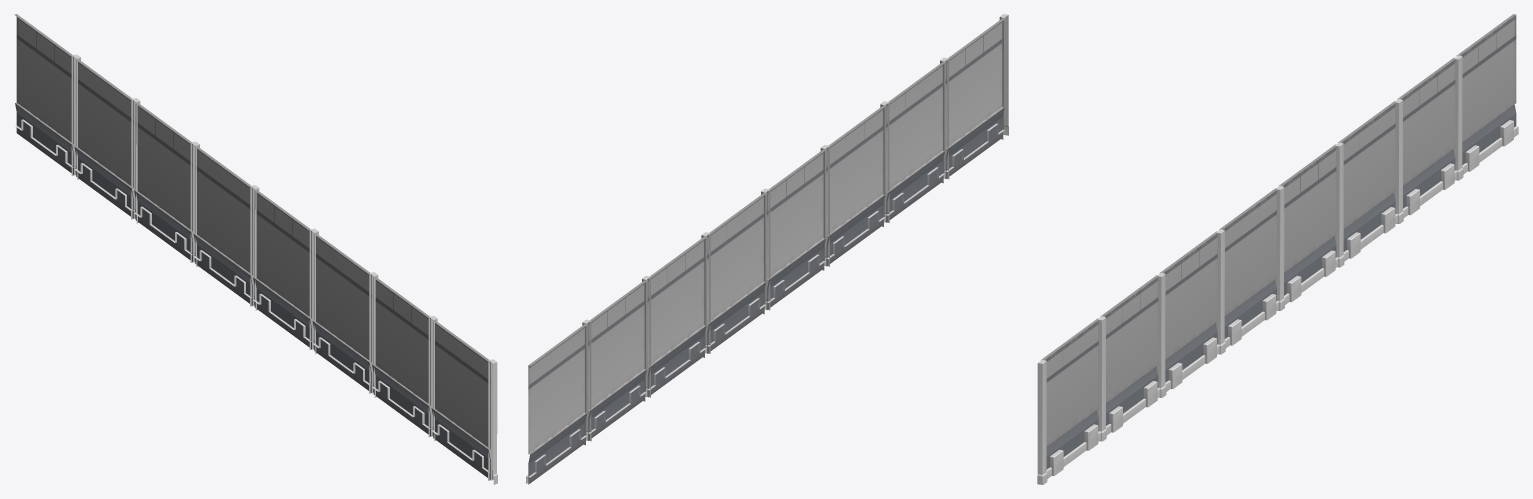
File: Pfb_JALB_WallPart2_Line__16.fbx
3 views of the same model, side by side, from view 1: azimuth 30°, elevation 25°; view 2: azimuth 150°, elevation 25°; view 3: azimuth 330°, elevation 25° (orthographic).
Parts seen in each view (by area): view 1: MAT_JLABWall; view 2: MAT_JLABWall; view 3: MAT_JLABWall.
Boxes of the visible parts, x1,y1,x2,y2 form: MAT_JLABWall: (14,14,497,484); MAT_JLABWall: (526,14,1008,484); MAT_JLABWall: (1037,14,1518,484).
Size of the model in its own units: 0.2509 by 4.04 by 28.94.
Materials: 1 (1 with a texture image).
